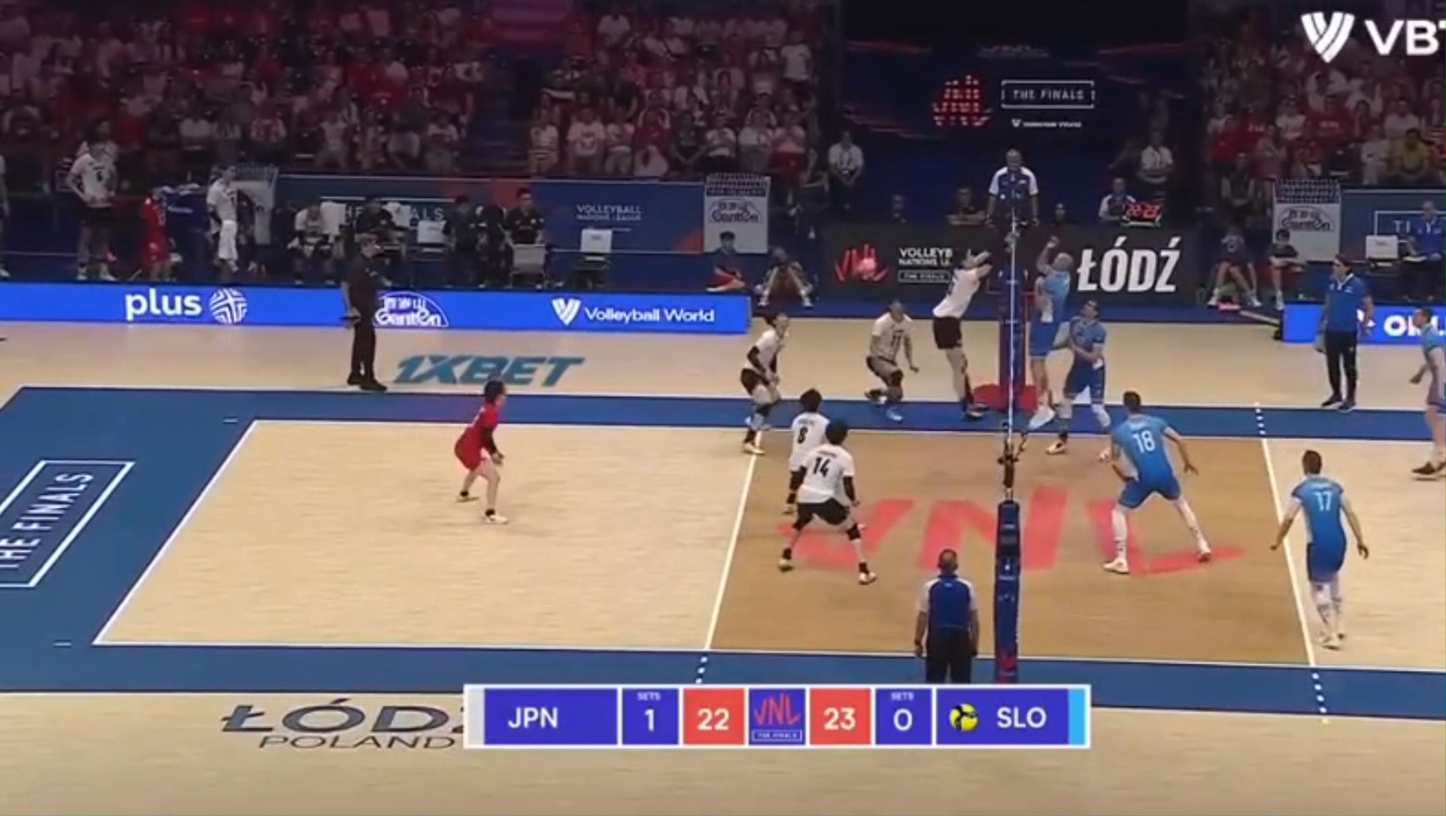player: (1103, 391, 1211, 573), (1272, 450, 1369, 649), (1046, 300, 1111, 455), (1027, 239, 1072, 428), (1410, 307, 1445, 478)
player 1: (777, 420, 876, 585), (931, 250, 991, 419), (454, 379, 507, 523), (740, 314, 789, 455), (865, 300, 919, 420), (786, 388, 829, 512)
referee: (914, 549, 978, 683), (1318, 257, 1373, 411), (341, 231, 388, 391), (985, 150, 1042, 280)
